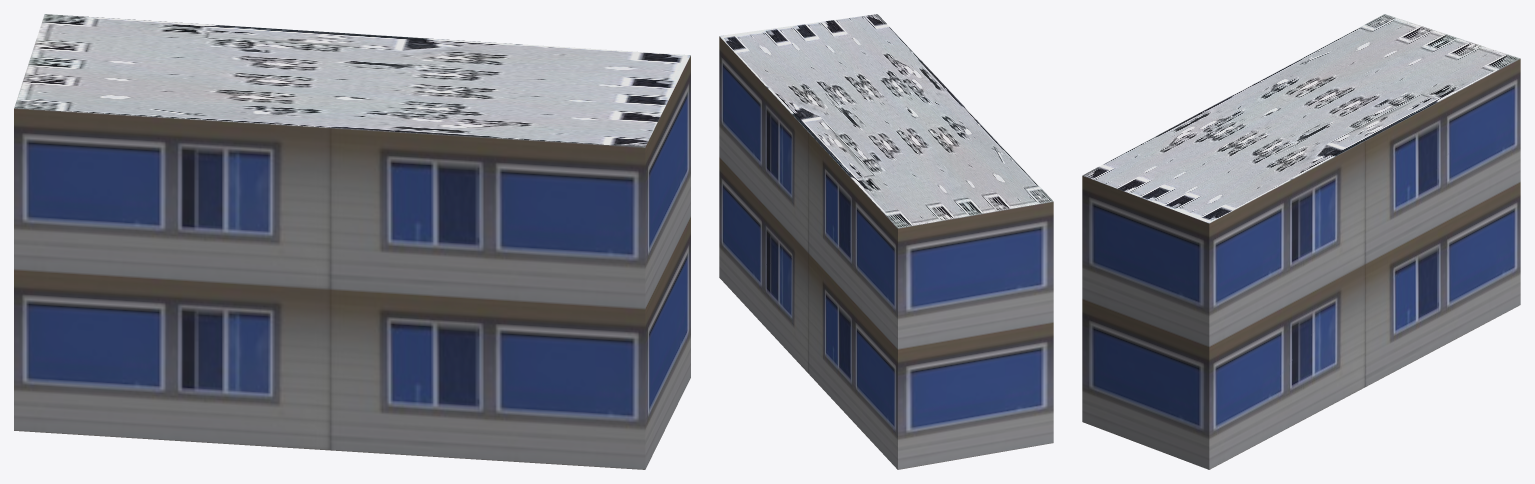
Rendered from ResTex__300.fbx.
3 views of the same model, side by side, from view 1: azimuth 30°, elevation 25°; view 2: azimuth 150°, elevation 25°; view 3: azimuth 270°, elevation 25° (orthographic). The views are drawn at different scales.
Parts seen in each view (by area): view 1: CityEngineMaterial_23_m, CityEngineMaterial_8_m; view 2: CityEngineMaterial_23_m, CityEngineMaterial_8_m; view 3: CityEngineMaterial_23_m, CityEngineMaterial_8_m.
Part boxes in pixels (box(x1,y1,x2,y2)): CityEngineMaterial_23_m: box(14, 55, 690, 469); CityEngineMaterial_8_m: box(14, 14, 690, 147); CityEngineMaterial_23_m: box(719, 36, 1053, 469); CityEngineMaterial_8_m: box(719, 14, 1053, 228); CityEngineMaterial_23_m: box(1082, 58, 1520, 469); CityEngineMaterial_8_m: box(1082, 14, 1520, 223).
Size of the model in its own units: 10.94 by 6 by 9.67.
Materials: 2 (2 with a texture image).
